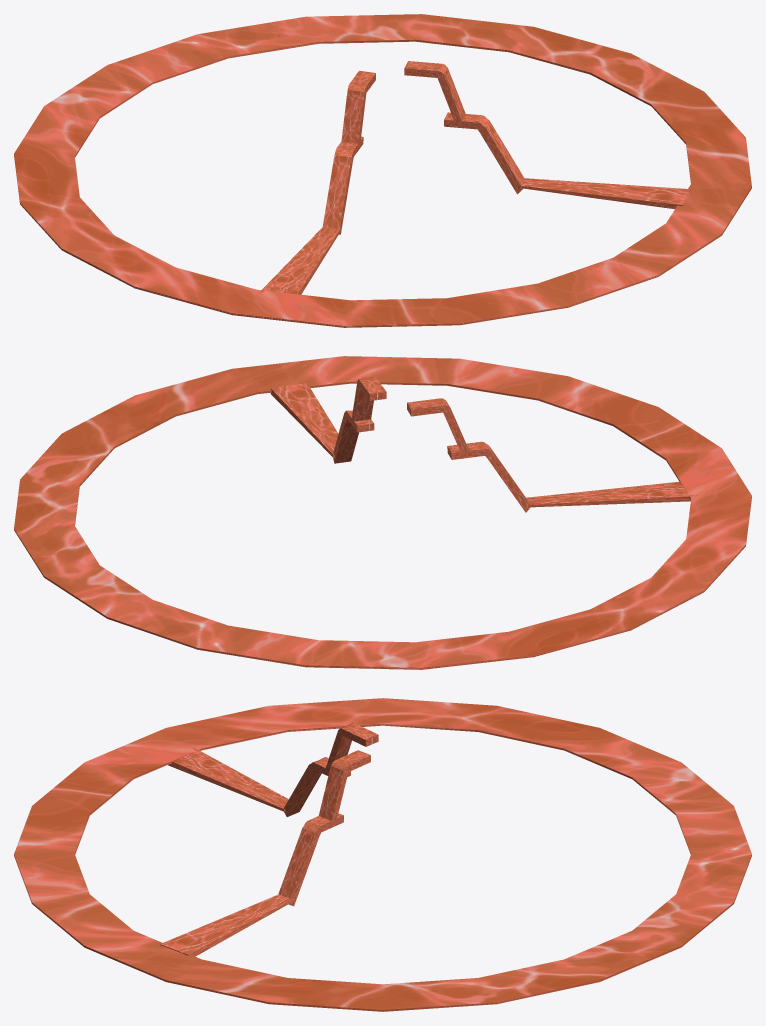
File: Rio.obj
The picture shows the model from 3 angles, top to bottom: view 1: azimuth 30°, elevation 25°; view 2: azimuth 150°, elevation 25°; view 3: azimuth 270°, elevation 25°; orthographic projection.
Parts seen in each view (by area): view 1: pCylinder3, polySurface76pasted__group28_pasted__pasted__pCube6group30, pasted__group28_pasted__pasted__pCube6group30polySurface75, pasted__group28_pasted__pasted__pCube6group30polySurface73, pasted__group28_pasted__pasted__pCube6group30polySurface78, pasted__group28_pasted__pasted__pCube6group30polySurface74, pasted__group28_pasted__pasted__pCube6group30polySurface79; view 2: pCylinder3, pasted__group28_pasted__pasted__pCube6group30polySurface75, polySurface76pasted__group28_pasted__pasted__pCube6group30, pasted__group28_pasted__pasted__pCube6group30polySurface73, pasted__group28_pasted__pasted__pCube6group30polySurface78, pasted__group28_pasted__pasted__pCube6group30polySurface79, pasted__group28_pasted__pasted__pCube6group30polySurface74; view 3: pCylinder3, polySurface76pasted__group28_pasted__pasted__pCube6group30, pasted__group28_pasted__pasted__pCube6group30polySurface75, pasted__group28_pasted__pasted__pCube6group30polySurface78, pasted__group28_pasted__pasted__pCube6group30polySurface79, pasted__group28_pasted__pasted__pCube6group30polySurface74, pasted__group28_pasted__pasted__pCube6group30polySurface73.
Boxes of the visible parts, box(x1,y1,x2,y2) form: pCylinder3: box(14, 14, 751, 327); polySurface76pasted__group28_pasted__pasted__pCube6group30: box(521, 178, 690, 209); pasted__group28_pasted__pasted__pCube6group30polySurface75: box(258, 227, 341, 294); pasted__group28_pasted__pasted__pCube6group30polySurface73: box(322, 136, 363, 234); pasted__group28_pasted__pasted__pCube6group30polySurface78: box(444, 112, 524, 194); pasted__group28_pasted__pasted__pCube6group30polySurface74: box(341, 70, 375, 148); pasted__group28_pasted__pasted__pCube6group30polySurface79: box(404, 61, 465, 123); pCylinder3: box(14, 356, 751, 669); pasted__group28_pasted__pasted__pCube6group30polySurface75: box(526, 481, 697, 507); polySurface76pasted__group28_pasted__pasted__pCube6group30: box(270, 383, 338, 457); pasted__group28_pasted__pasted__pCube6group30polySurface73: box(447, 441, 531, 512); pasted__group28_pasted__pasted__pCube6group30polySurface78: box(333, 410, 374, 463); pasted__group28_pasted__pasted__pCube6group30polySurface79: box(351, 377, 386, 426); pasted__group28_pasted__pasted__pCube6group30polySurface74: box(407, 398, 469, 451); pCylinder3: box(14, 698, 751, 1011); polySurface76pasted__group28_pasted__pasted__pCube6group30: box(160, 894, 295, 956); pasted__group28_pasted__pasted__pCube6group30polySurface75: box(168, 747, 288, 811); pasted__group28_pasted__pasted__pCube6group30polySurface78: box(278, 813, 343, 906); pasted__group28_pasted__pasted__pCube6group30polySurface79: box(318, 750, 370, 825); pasted__group28_pasted__pasted__pCube6group30polySurface74: box(324, 723, 378, 774); pasted__group28_pasted__pasted__pCube6group30polySurface73: box(284, 757, 350, 816).
Size of the model in its own units: 14.67 by 2.54 by 14.67.
